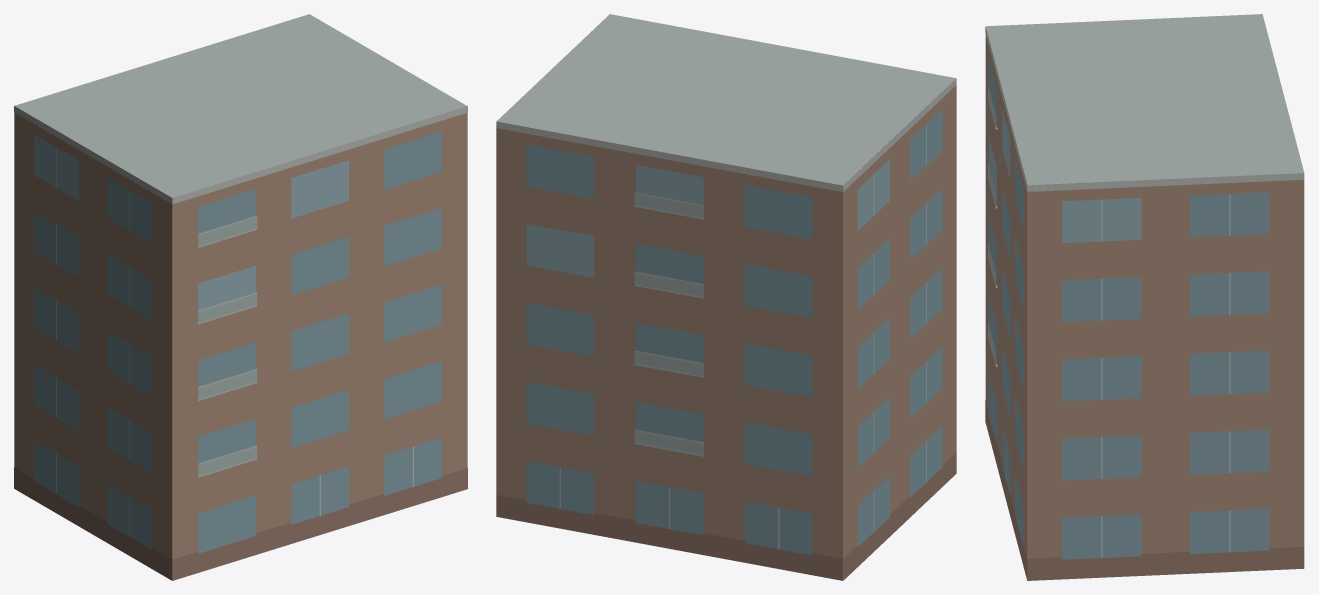
Rendered from survey-upis-32882696.glb.
3 renders of one model, left to right at view 1: azimuth 30°, elevation 25°; view 2: azimuth 150°, elevation 25°; view 3: azimuth 270°, elevation 25°, orthographic. The views are drawn at different scales.
Visible parts, largest first — view 1: survey-upis-32882696.tmp; view 2: survey-upis-32882696.tmp; view 3: survey-upis-32882696.tmp.
Boxes of the visible parts, <box> form: survey-upis-32882696.tmp: <box>14,14,467,580</box>; survey-upis-32882696.tmp: <box>496,14,956,580</box>; survey-upis-32882696.tmp: <box>985,14,1304,580</box>.
Size of the model in its own units: 13.57 by 14.6 by 10.68.
